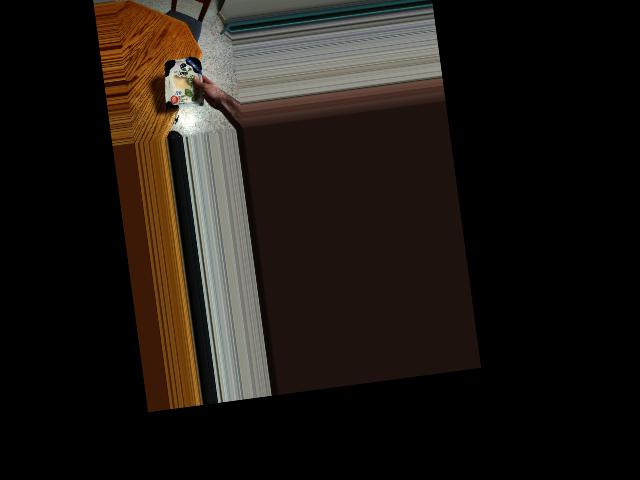cheese: (159, 48, 206, 119)
